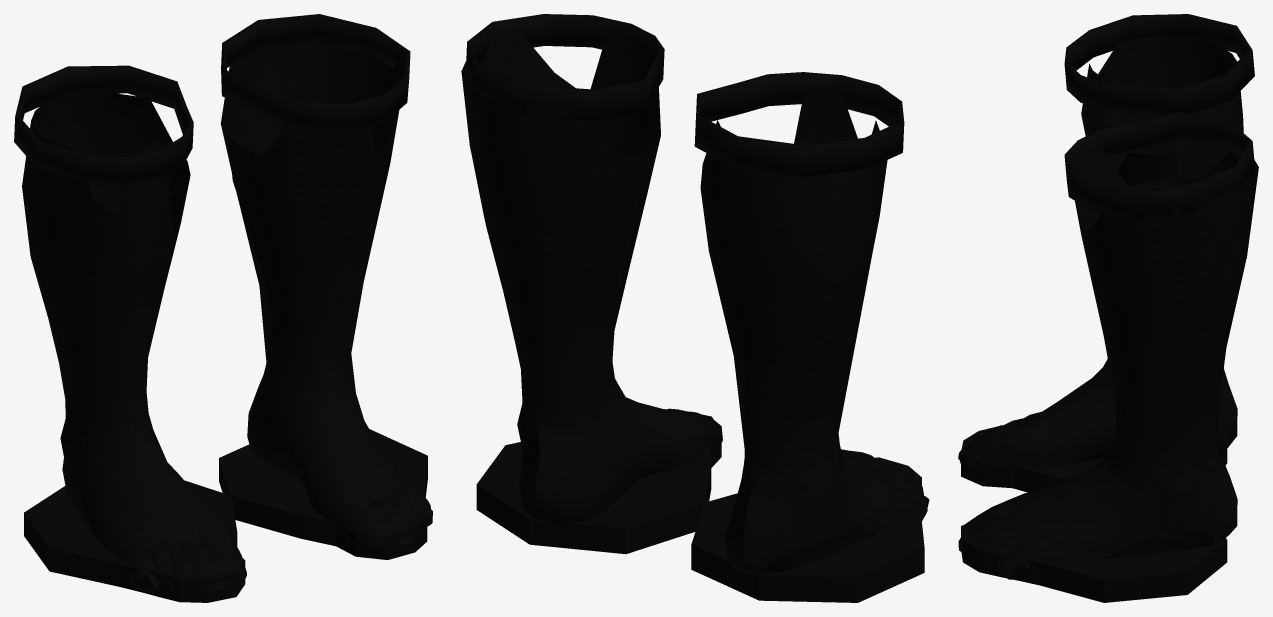
File: rubber_boots.glb
3 renders of one model, left to right at view 1: azimuth 30°, elevation 25°; view 2: azimuth 150°, elevation 25°; view 3: azimuth 270°, elevation 25°, orthographic. The views are drawn at different scales.
Visible parts, largest first — view 1: rubber_boots_ground; view 2: rubber_boots_ground; view 3: rubber_boots_ground.
Boxes of the visible parts, x1,y1,x2,y2 form: rubber_boots_ground: (14, 14, 432, 602); rubber_boots_ground: (461, 14, 929, 602); rubber_boots_ground: (958, 14, 1258, 602).
Size of the model in its own units: 0.4438 by 0.4846 by 0.3121.
1 material, 1 textured.
